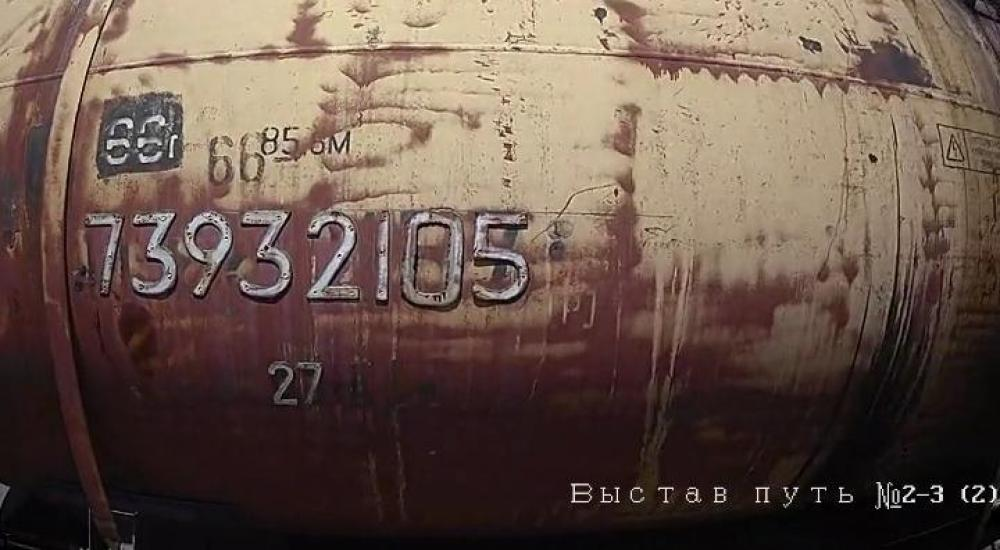Wagon-number: (76, 205, 535, 313)
